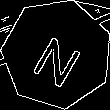N_NE: (26, 22, 87, 86)
